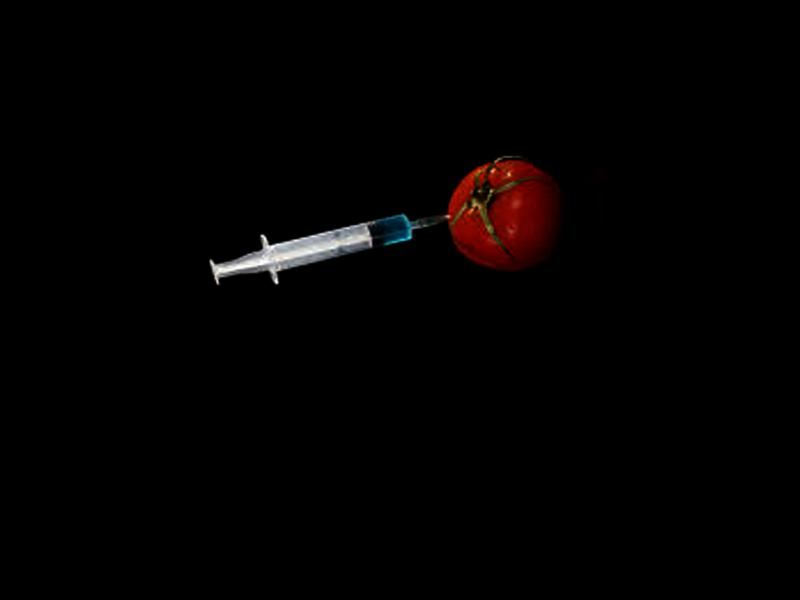Tomato: (446, 156, 561, 272)
